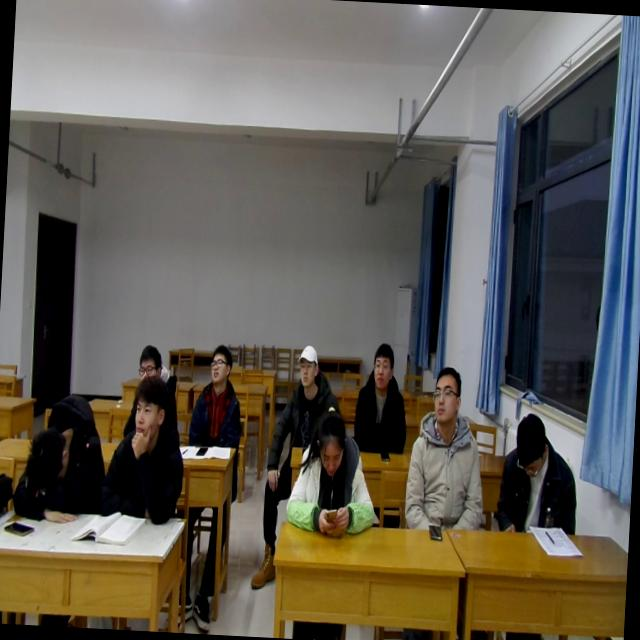bow: (12, 386, 108, 525)
down: (506, 408, 550, 482), (312, 402, 351, 482)
lookup: (128, 372, 168, 450), (429, 360, 465, 433), (366, 340, 398, 396), (204, 340, 234, 390), (294, 339, 322, 392), (132, 341, 164, 384)
sit: (402, 363, 493, 540), (93, 377, 193, 526), (284, 398, 382, 544), (494, 411, 584, 538), (272, 343, 342, 448), (350, 343, 414, 457), (184, 343, 248, 451), (124, 339, 183, 418)
